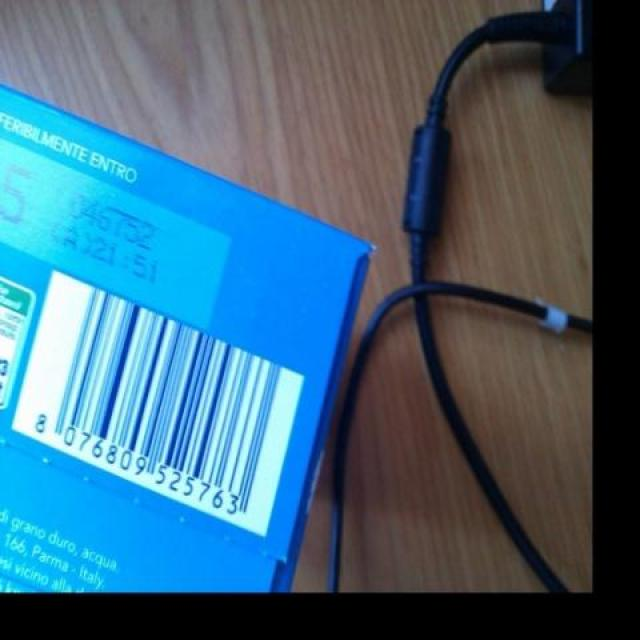Barcode: (12, 270, 305, 538)
